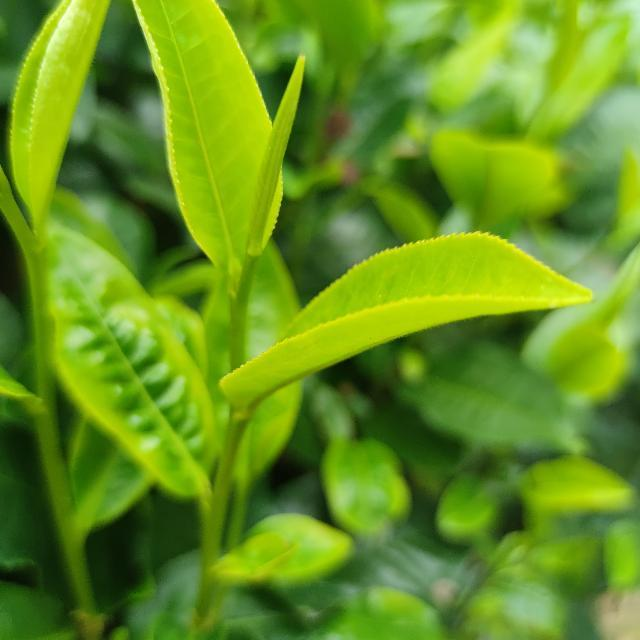Stem: (232, 290, 245, 339)
